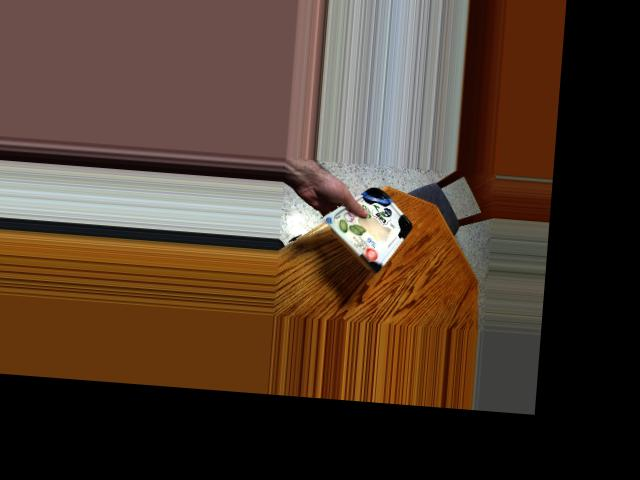cheese: (327, 195, 412, 262)
